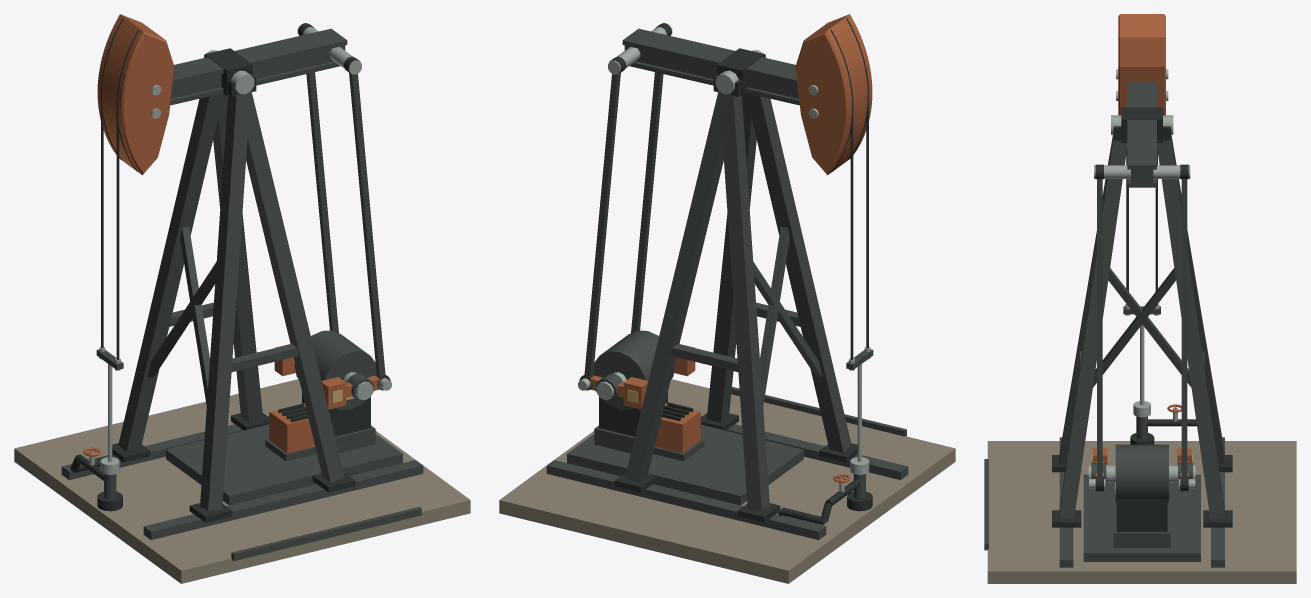
The model's file is prototype.glb.
The picture shows the model from 3 angles, left to right: view 1: azimuth 30°, elevation 25°; view 2: azimuth 150°, elevation 25°; view 3: azimuth 270°, elevation 25°; orthographic projection. The views are drawn at different scales.
Parts seen in each view (by area): view 1: derrick_surface_02, derrick_surface_00, derrick_surface_10, derrick_surface_07, derrick_surface_15, derrick_surface_03, derrick_surface_01, derrick_surface_19, derrick_surface_05, derrick_surface_08, derrick_surface_04, derrick_surface_11 (+1 smaller); view 2: derrick_surface_02, derrick_surface_00, derrick_surface_10, derrick_surface_07, derrick_surface_15, derrick_surface_03, derrick_surface_19, derrick_surface_05, derrick_surface_08, derrick_surface_04, derrick_surface_11, derrick_surface_01 (+1 smaller); view 3: derrick_surface_02, derrick_surface_00, derrick_surface_15, derrick_surface_10, derrick_surface_03, derrick_surface_07, derrick_surface_04, derrick_surface_09, derrick_surface_08, derrick_surface_19, derrick_surface_16, derrick_surface_01.
Boxes of the visible parts, <box> form: derrick_surface_02: <box>61,91,423,539</box>; derrick_surface_00: <box>14,379,470,583</box>; derrick_surface_10: <box>97,14,174,175</box>; derrick_surface_07: <box>170,28,347,105</box>; derrick_surface_15: <box>306,72,385,377</box>; derrick_surface_03: <box>70,74,370,522</box>; derrick_surface_01: <box>231,506,421,560</box>; derrick_surface_19: <box>101,96,119,359</box>; derrick_surface_05: <box>83,403,314,456</box>; derrick_surface_08: <box>101,18,252,171</box>; derrick_surface_04: <box>89,50,373,474</box>; derrick_surface_11: <box>274,344,385,409</box>; derrick_surface_02: <box>546,91,908,539</box>; derrick_surface_00: <box>499,379,955,583</box>; derrick_surface_10: <box>795,14,872,175</box>; derrick_surface_07: <box>622,28,799,105</box>; derrick_surface_15: <box>584,72,663,377</box>; derrick_surface_03: <box>599,74,872,525</box>; derrick_surface_19: <box>850,96,868,359</box>; derrick_surface_05: <box>655,403,850,482</box>; derrick_surface_08: <box>717,18,868,171</box>; derrick_surface_04: <box>596,50,869,491</box>; derrick_surface_11: <box>584,344,695,409</box>; derrick_surface_01: <box>731,386,906,436</box>; derrick_surface_02: <box>1059,135,1225,567</box>; derrick_surface_00: <box>987,441,1296,583</box>; derrick_surface_15: <box>1097,179,1187,478</box>; derrick_surface_10: <box>1118,14,1165,115</box>; derrick_surface_03: <box>1052,126,1232,531</box>; derrick_surface_07: <box>1127,82,1156,187</box>; derrick_surface_04: <box>1088,115,1195,482</box>; derrick_surface_09: <box>1094,69,1190,178</box>; derrick_surface_08: <box>1121,107,1162,142</box>; derrick_surface_19: <box>1126,148,1157,305</box>; derrick_surface_16: <box>1095,164,1188,491</box>; derrick_surface_01: <box>984,459,988,550</box>.
Size of the model in its own units: 8 by 12.99 by 8.09.
